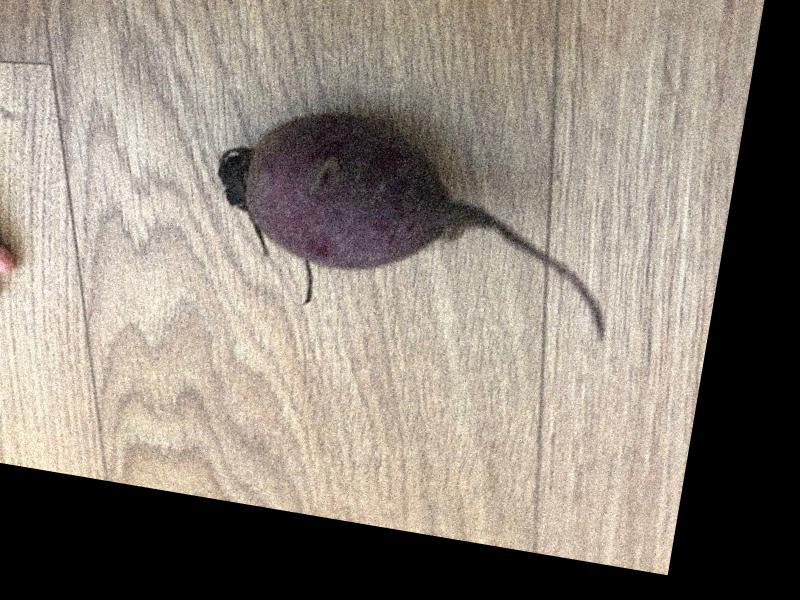Beet: (201, 99, 634, 352)
